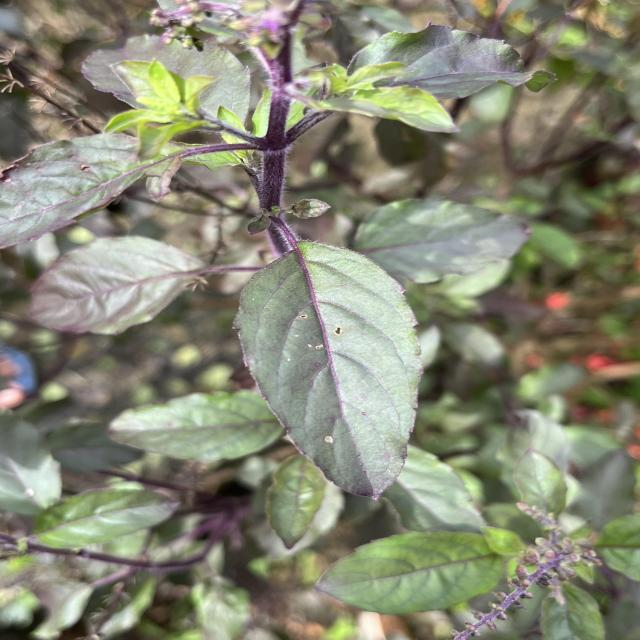Ocimum tenuiflorum: (231, 240, 427, 502)
